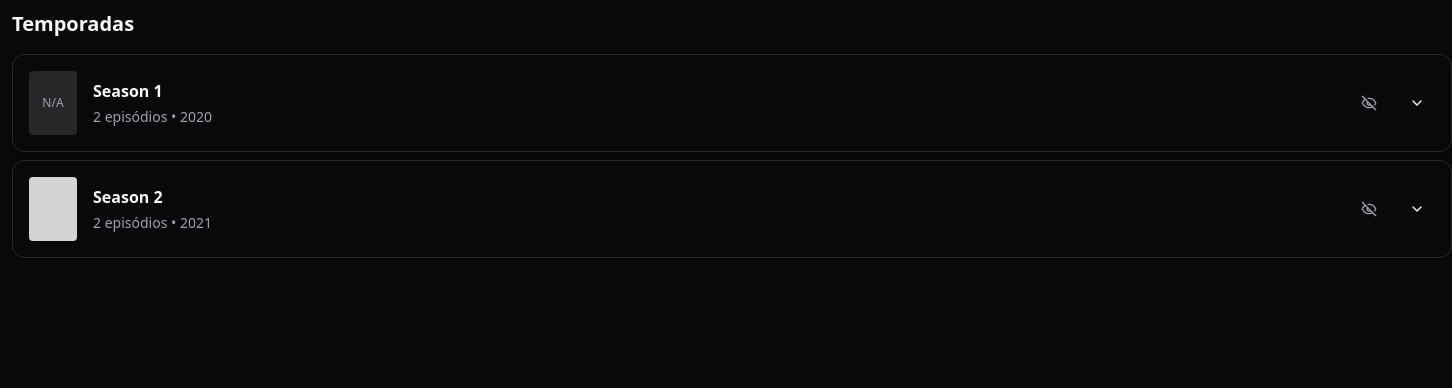
Test case: SeasonList › handles retry button after expand error
Step 1. Click the heading "Season 1" → point(128, 91), box [93, 80, 163, 102]
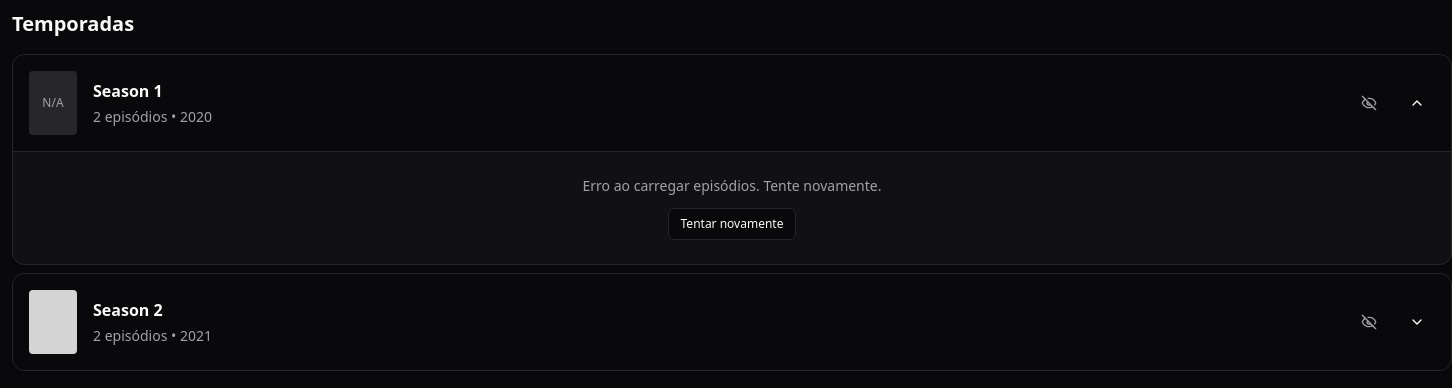
Check: the text "Erro ao carregar episódios. Tente novamente." is shown, box [582, 176, 882, 196]
Step 2. Click the button "Tentar novamente" → point(732, 224), box [668, 208, 796, 240]
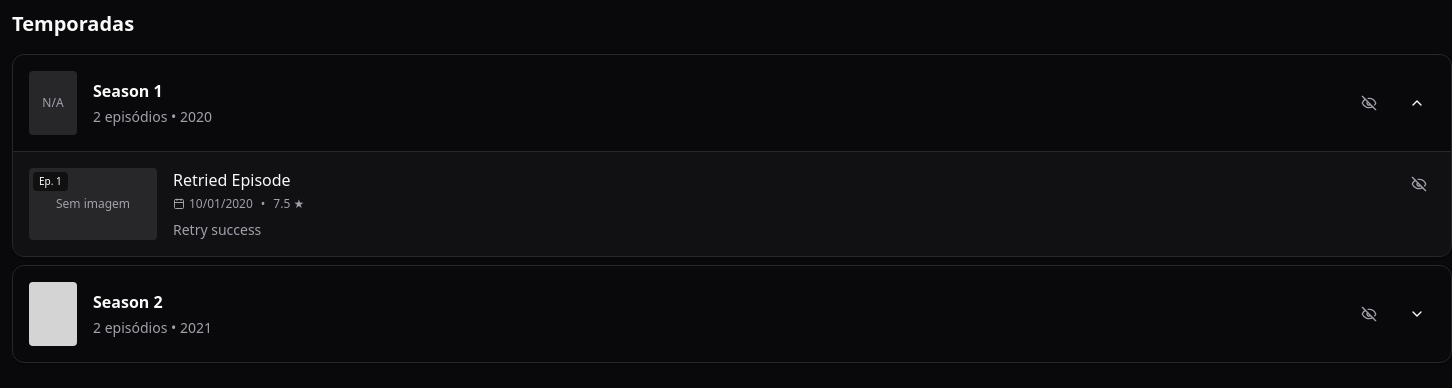
Check: the heading "Retried Episode" is shown, box [173, 169, 291, 191]
